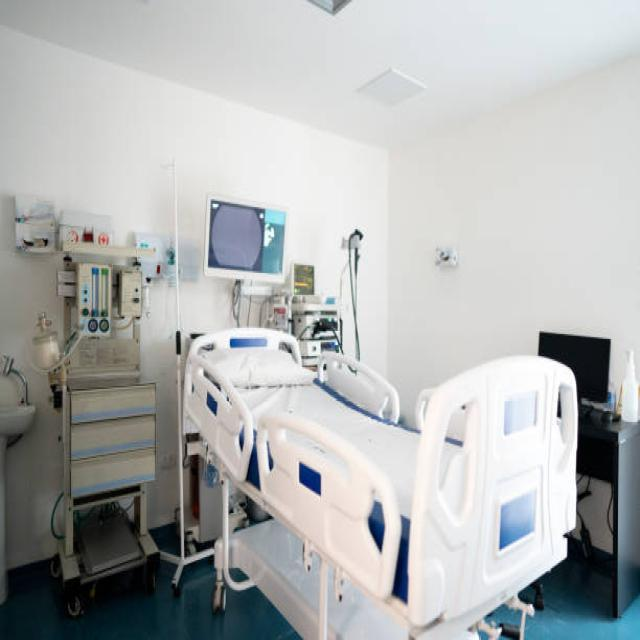Monitor: (198, 179, 298, 314)
bed: (176, 324, 578, 638)
